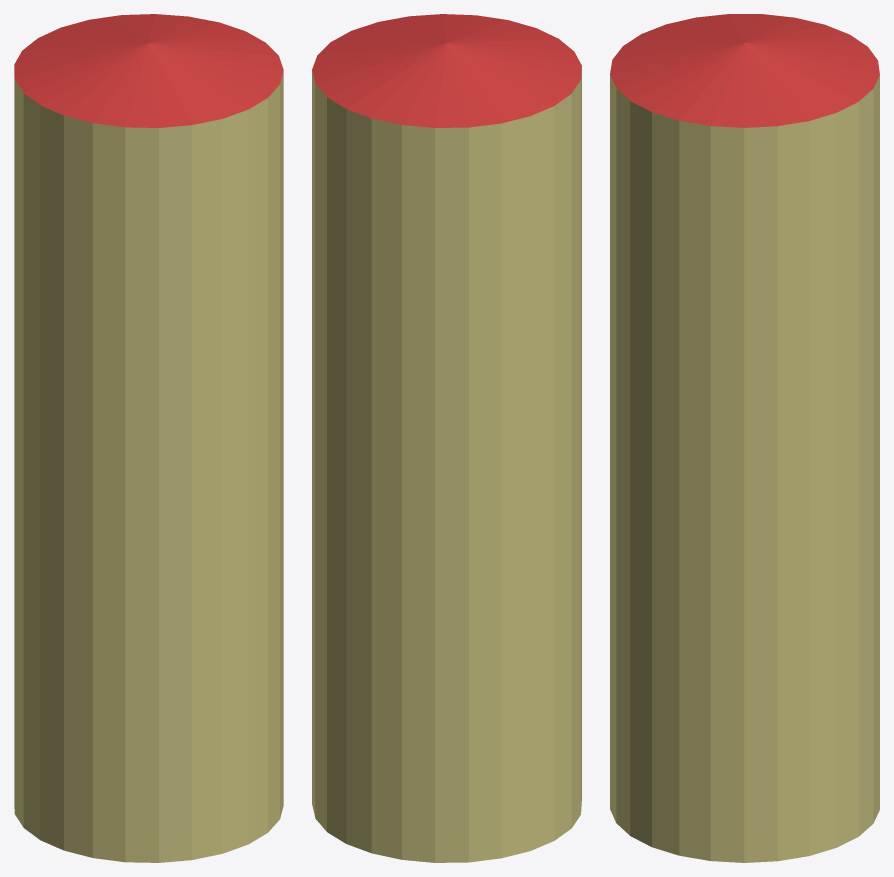
3 renders of one model, left to right at view 1: azimuth 30°, elevation 25°; view 2: azimuth 150°, elevation 25°; view 3: azimuth 270°, elevation 25°, orthographic.
Size of the model in its own units: 5.17 by 5.17 by 16.13.
